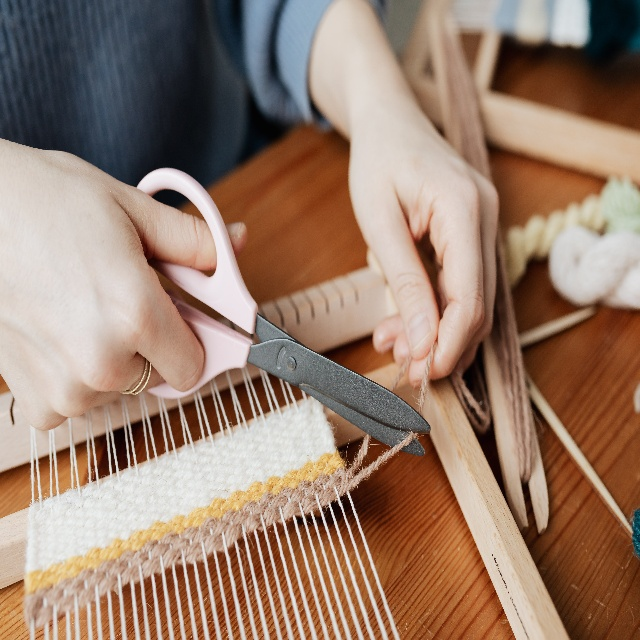Sin_guantes: (0, 140, 248, 431), (348, 111, 500, 387)
